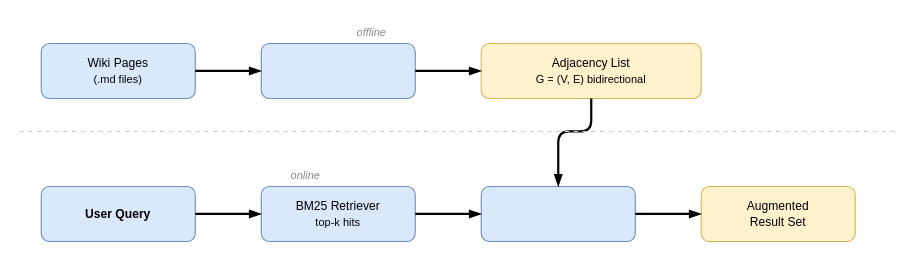
Some shapes in this 920 by 261 pixel diagram are drawn without their labels. The centre of each missing label's shape, as x and y in pixels:
"1-Hop Expansion α · score" goes at (557,213).
"Link Parser regex + resolve" goes at (337,70).
